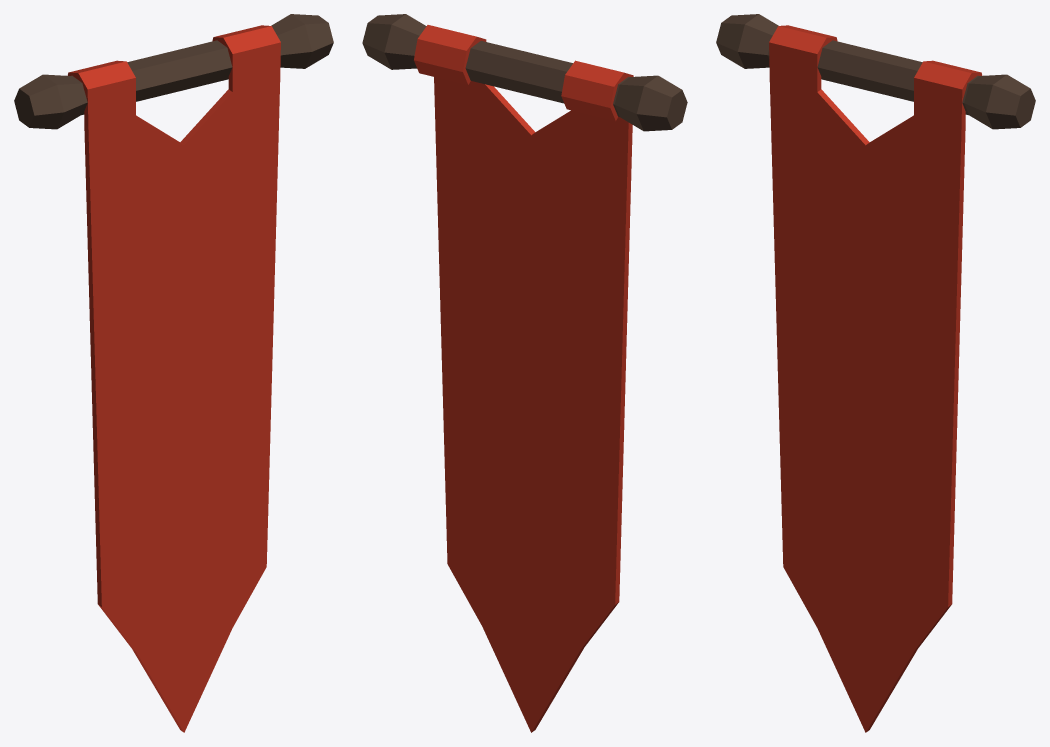
The model's file is banner_1.fbx.
The picture shows the model from 3 angles, left to right: view 1: azimuth 30°, elevation 25°; view 2: azimuth 150°, elevation 25°; view 3: azimuth 330°, elevation 25°; orthographic projection.
Parts seen in each view (by area): view 1: banner_1; view 2: banner_1; view 3: banner_1.
Part boxes in pixels (x1,y1,x2,y2): banner_1: (14,14,333,732); banner_1: (362,14,687,732); banner_1: (716,14,1035,732).
Size of the model in its own units: 126 by 272 by 20.69.
